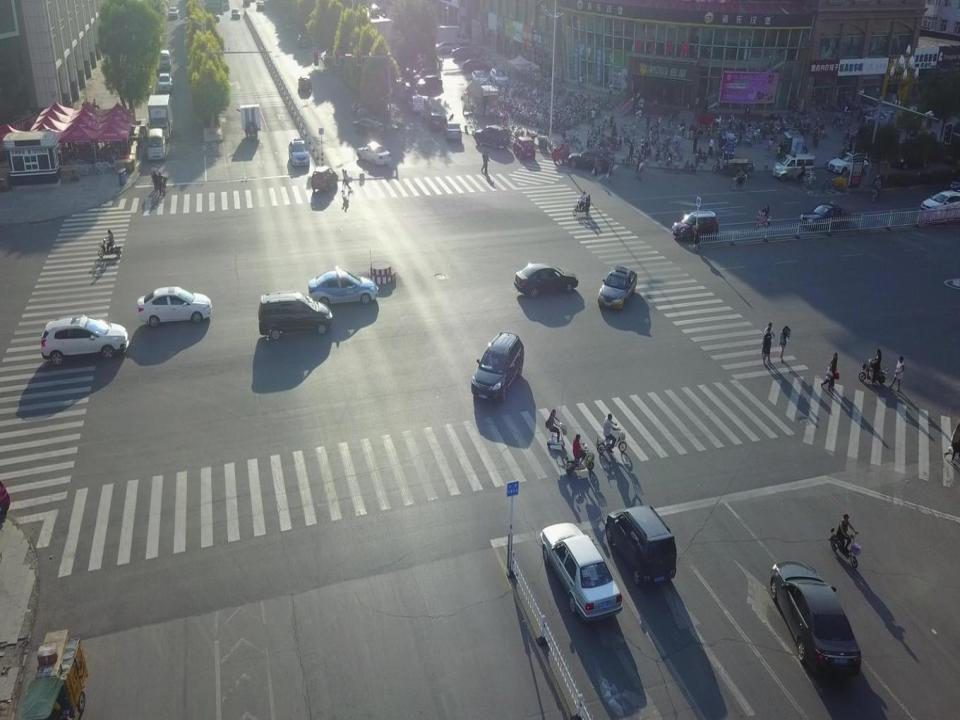car: (771, 563, 862, 677), (540, 524, 623, 621), (604, 505, 678, 586), (39, 315, 128, 365), (258, 290, 332, 341), (471, 332, 524, 403), (137, 287, 209, 326), (309, 268, 379, 307), (514, 264, 579, 298), (597, 266, 638, 314), (672, 210, 716, 241), (800, 204, 850, 230), (918, 191, 960, 220), (827, 151, 870, 176), (567, 152, 615, 173), (356, 142, 392, 168), (474, 124, 509, 149), (352, 115, 385, 136), (312, 166, 338, 192), (288, 138, 310, 168), (513, 136, 536, 160), (462, 58, 492, 74), (452, 46, 483, 60), (416, 76, 442, 92), (489, 68, 509, 88), (444, 121, 462, 142), (436, 40, 461, 55), (428, 111, 444, 132), (407, 97, 425, 115), (157, 74, 173, 93), (471, 70, 487, 86), (298, 76, 313, 93), (167, 6, 179, 18), (231, 8, 240, 19), (255, 1, 264, 10)
truck: (147, 94, 173, 140), (437, 25, 470, 47)
van: (773, 154, 815, 182), (147, 128, 166, 161), (159, 49, 171, 70)
